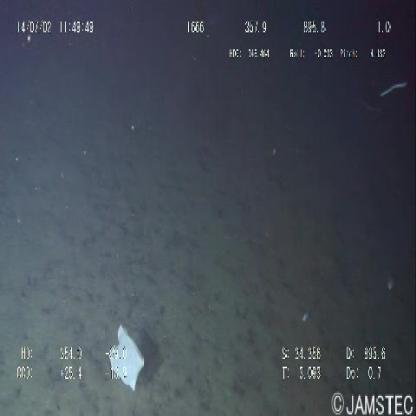Rác: (105, 318, 148, 405)
